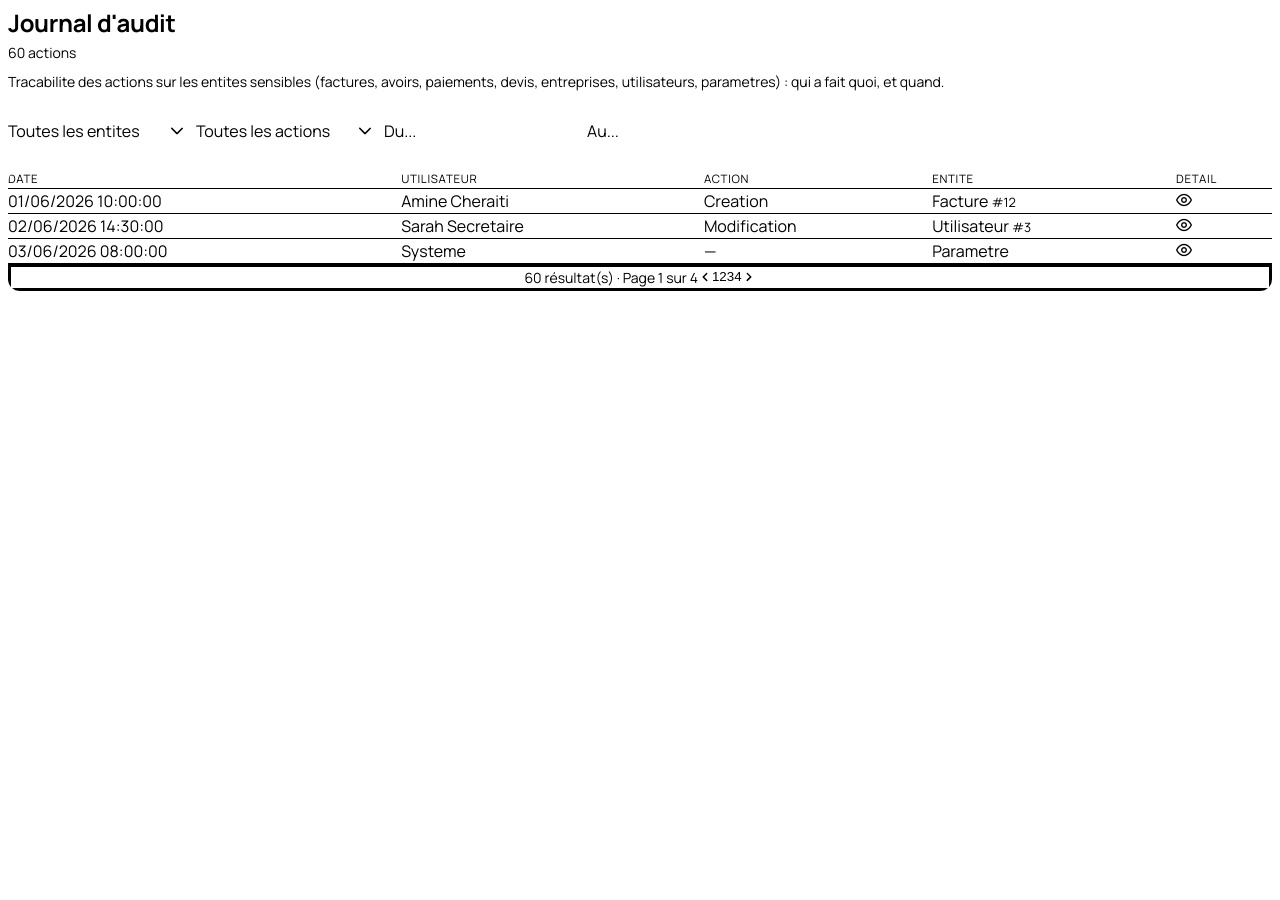
Scenario: AuditLogPage — dialog detail › ouvre le detail et affiche les champs modifies avant/apres
Click the button named "Voir le detail de l'action du 02/06/2026 14:30:00". click: [1184, 225]
box: [1176,214,1192,236]
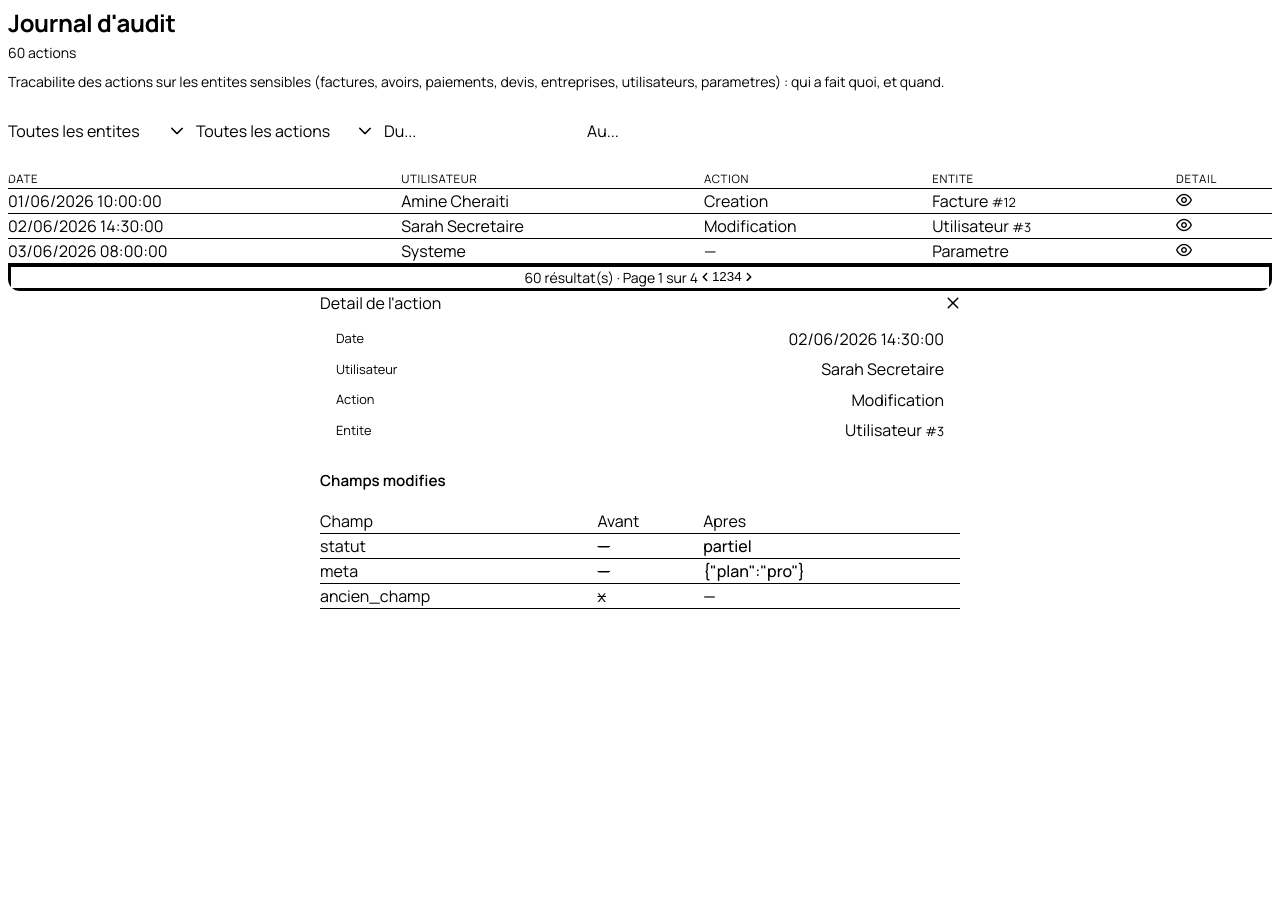
Expected: the text "Detail de l'action" is shown, [320,291,441,315]
Expected: the text "Champs modifies" is shown, [320,470,446,491]
Expected: the text "statut" is shown, [320,534,598,559]
